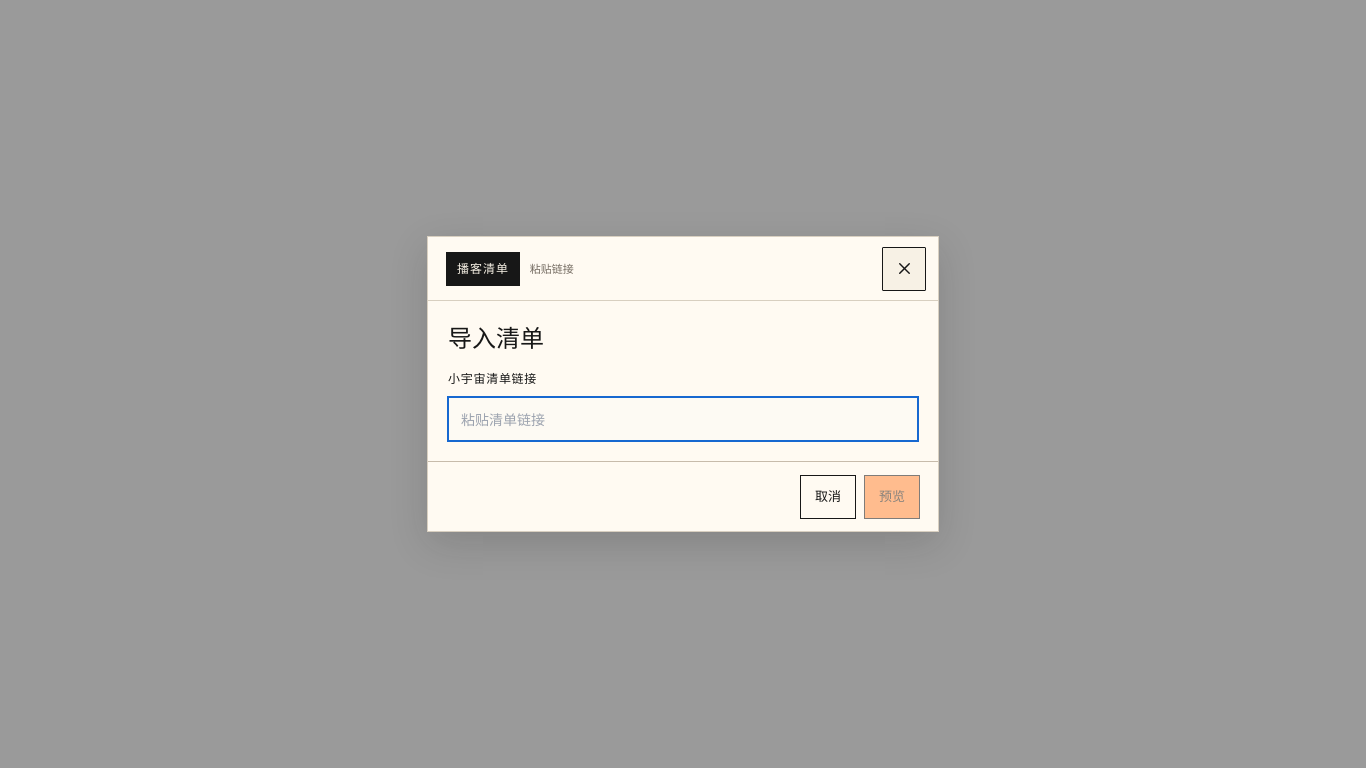
ImportCollectionModal › shows source and merged counts and retains different recommendations
Step 1. Type "https://www.xiaoyuzhoufm.com/collection/episode/6a20323b78a52c96d821a769" into the field labelled "小宇宙清单链接" → (683, 419), box [448, 397, 918, 441]
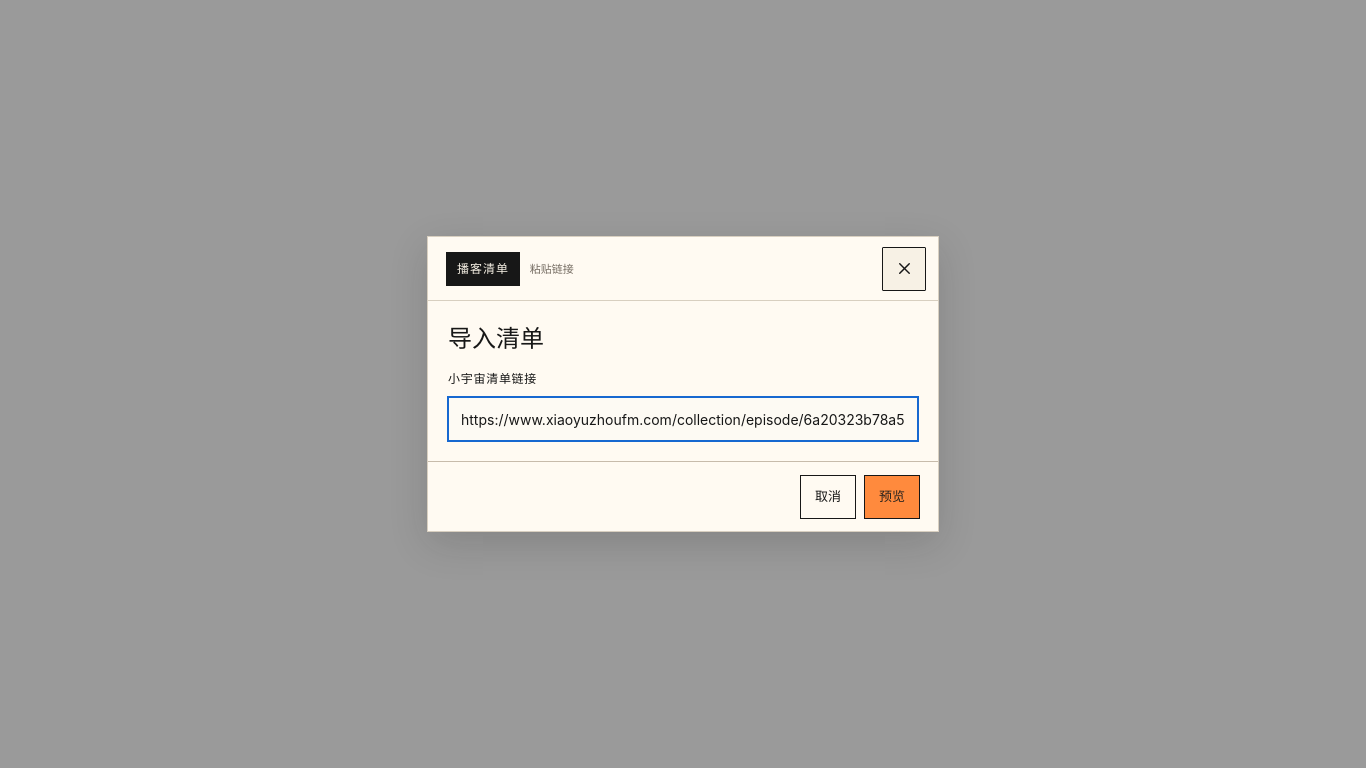
Step 2. Click the button "预览" → (892, 496), box [864, 474, 920, 518]
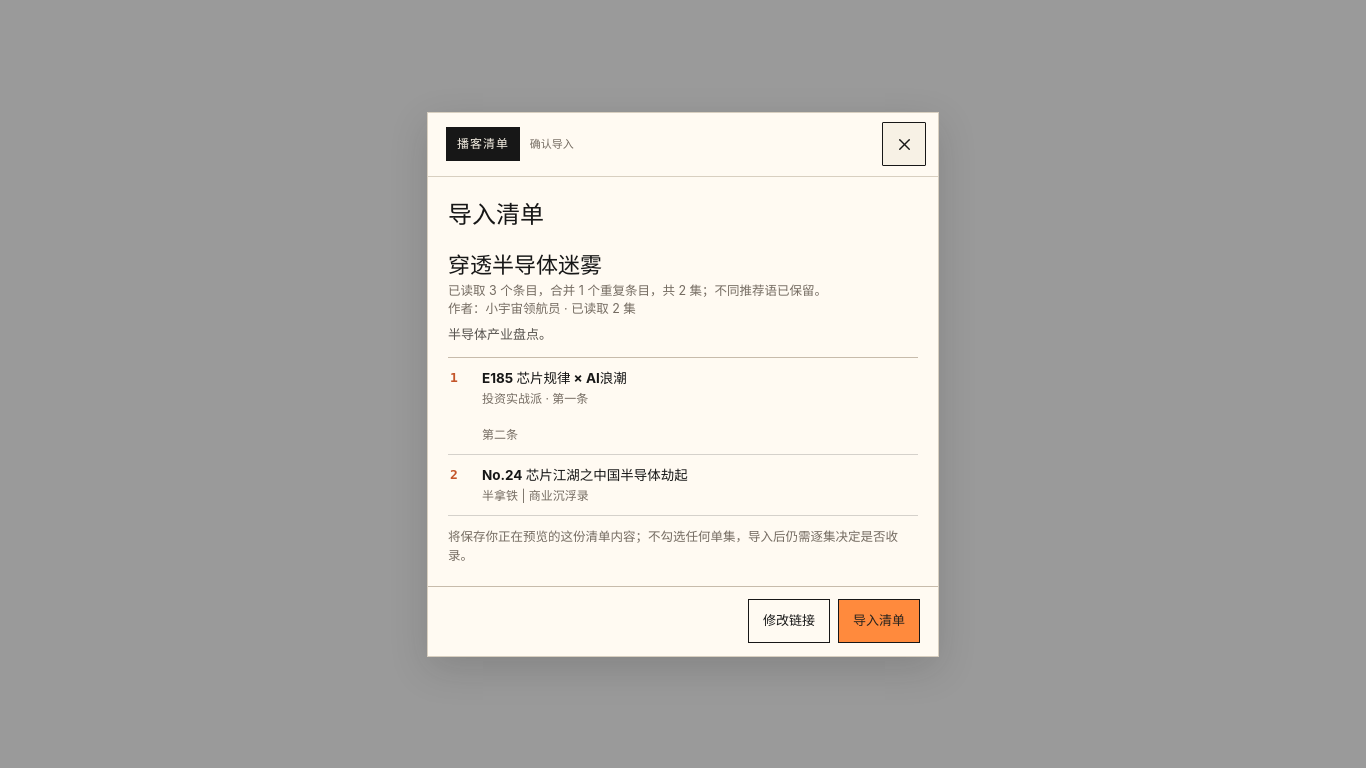
Now the button "导入清单" is enabled, box [838, 599, 920, 643]
Now the text "已读取 3 个条目，合并 1 个重复条目，共 2 集；不同推荐语已保留。" is shown, box [448, 282, 827, 298]
